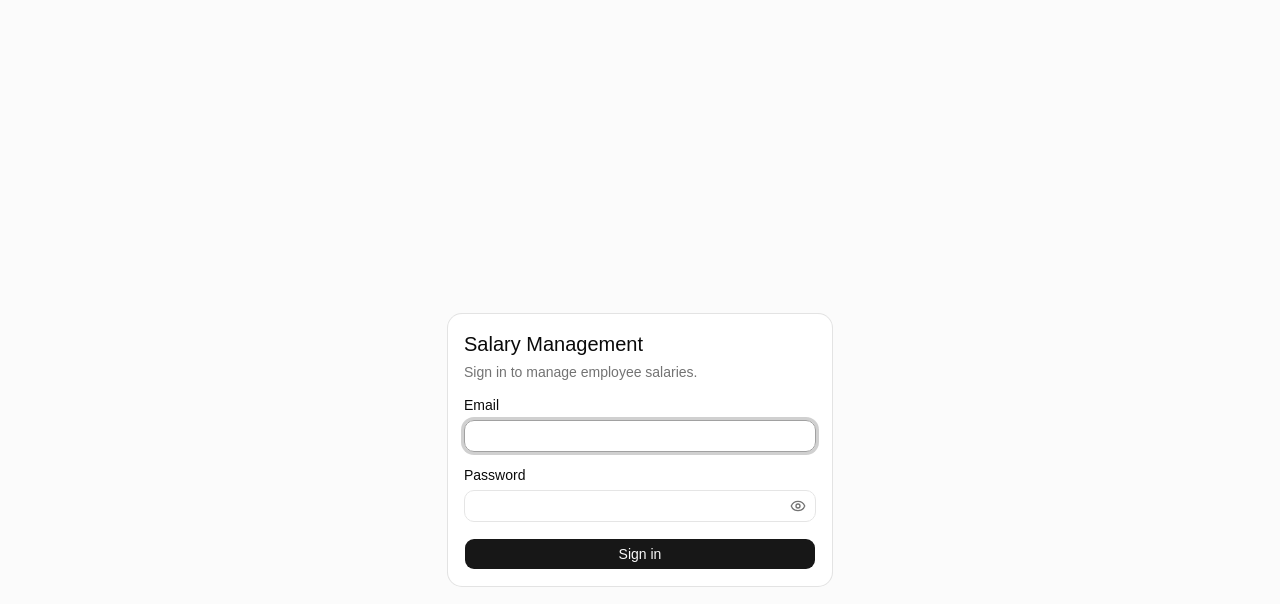
Test: signing in › signs in and opens the page the visitor originally asked for
Type "hr@example.com" into the field labelled "Email" at (640, 436), box [464,420,816,452]
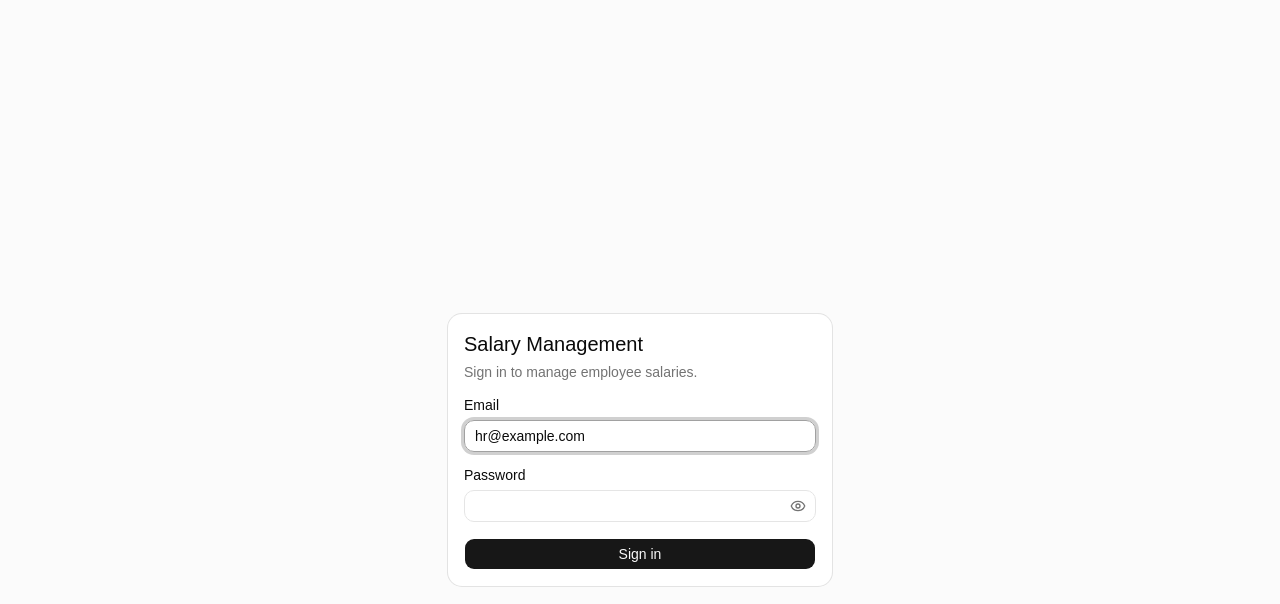
Type "correct-password" into the password field labelled "Password" at (640, 506), box [464,490,816,522]
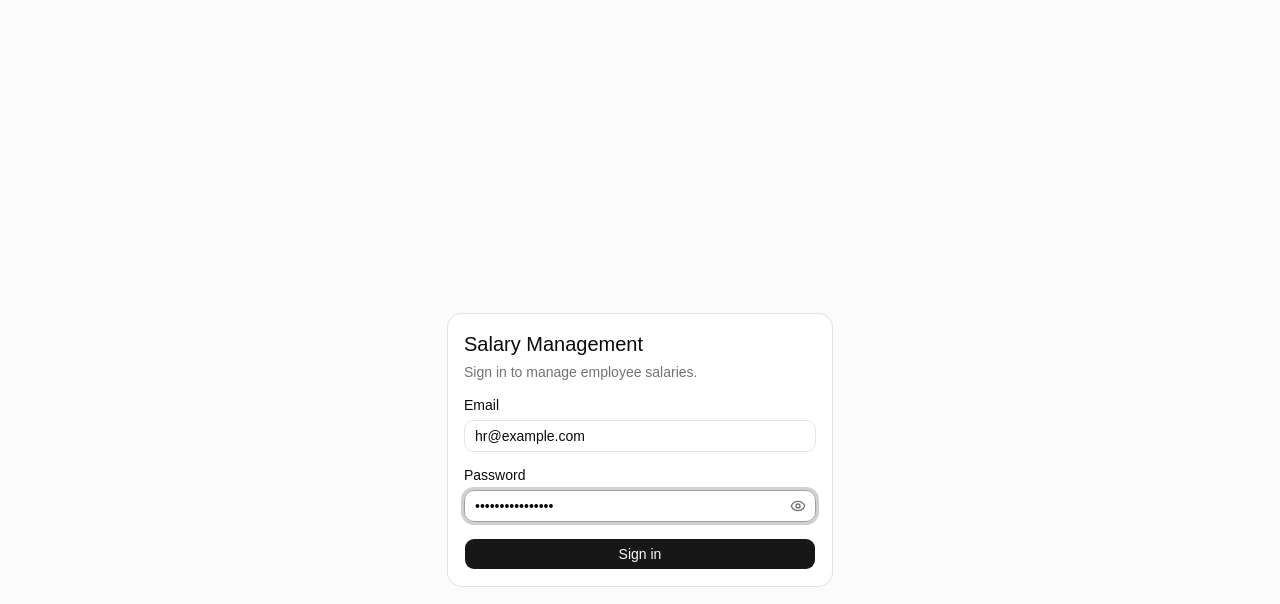
Click the button "Sign in" at (640, 554), box [464,538,816,570]
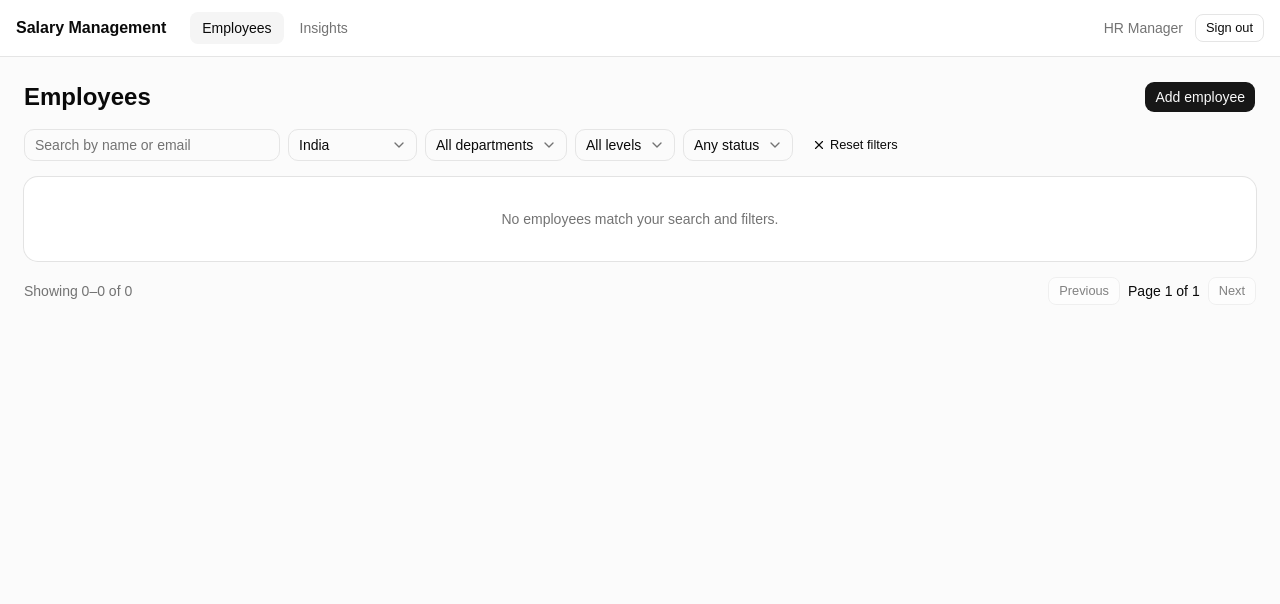
Expected: the heading "Employees" is shown, [24,81,151,113]
Expected: the dropdown named "Country" shows "India", [288,129,417,161]
